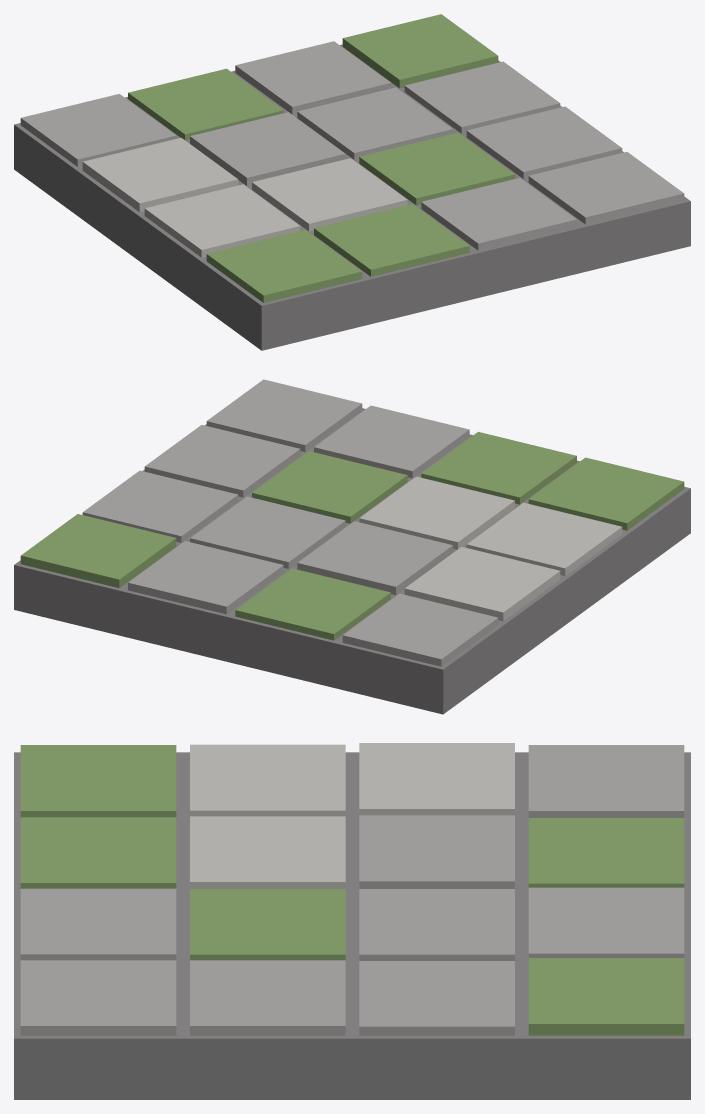
File: SM_Floor_Stone_Mossy.glb
3 views of the same model, one above another, from view 1: azimuth 30°, elevation 25°; view 2: azimuth 150°, elevation 25°; view 3: azimuth 270°, elevation 25° (orthographic). The views are drawn at different scales.
Parts seen in each view (by area): view 1: SM_Floor_Stone_Mossy; view 2: SM_Floor_Stone_Mossy; view 3: SM_Floor_Stone_Mossy.
Part boxes in pixels (left/top/right/bottom): SM_Floor_Stone_Mossy: left=14, top=14, right=690, bottom=350; SM_Floor_Stone_Mossy: left=14, top=379, right=690, bottom=714; SM_Floor_Stone_Mossy: left=14, top=743, right=690, bottom=1099.
Size of the model in its own units: 2 by 0.2398 by 2.
